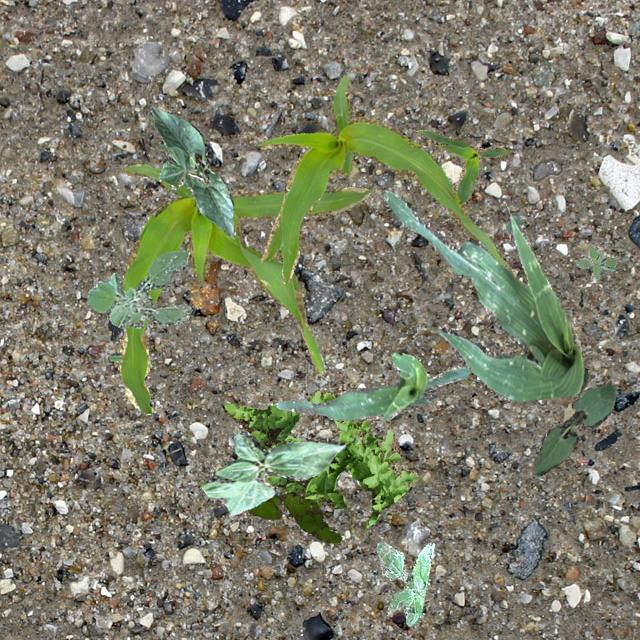crop: (119, 162, 372, 414), (258, 74, 514, 286), (380, 187, 588, 400), (274, 352, 470, 421), (200, 430, 344, 514), (148, 105, 234, 238), (532, 380, 614, 474), (414, 128, 510, 206)
weed: (220, 389, 418, 526), (86, 248, 192, 328), (374, 540, 434, 626), (247, 490, 341, 542), (576, 244, 618, 278), (108, 352, 120, 362)
